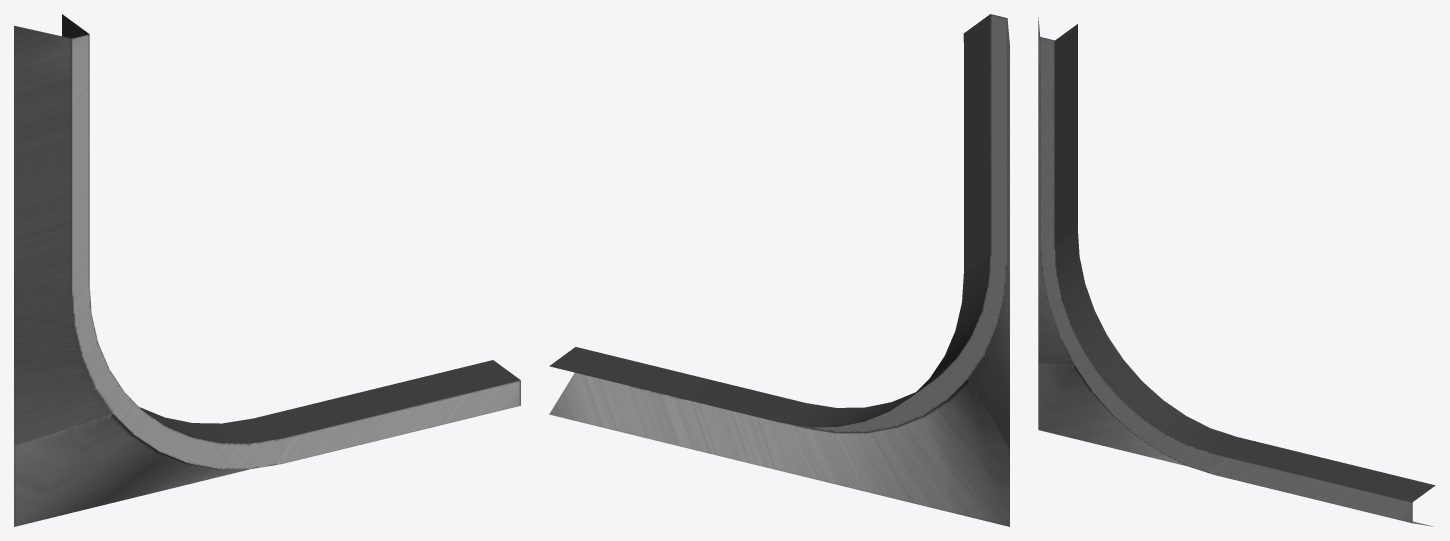
File: CubeBaseFrontWindowsCorner.fbx
3 renders of one model, left to right at view 1: azimuth 30°, elevation 25°; view 2: azimuth 150°, elevation 25°; view 3: azimuth 330°, elevation 25°, orthographic. The views are drawn at different scales.
Visible parts, largest first — view 1: polySurface2; view 2: polySurface2; view 3: polySurface2.
Part boxes in pixels (x1=…): polySurface2: x1=14, y1=14, x2=520, y2=526; polySurface2: x1=549, y1=14, x2=1009, y2=526; polySurface2: x1=1038, y1=17, x2=1435, y2=526.
Bounding box in the file's own units: 1 × 0.9999 × 0.1.
1 material, 1 textured.
